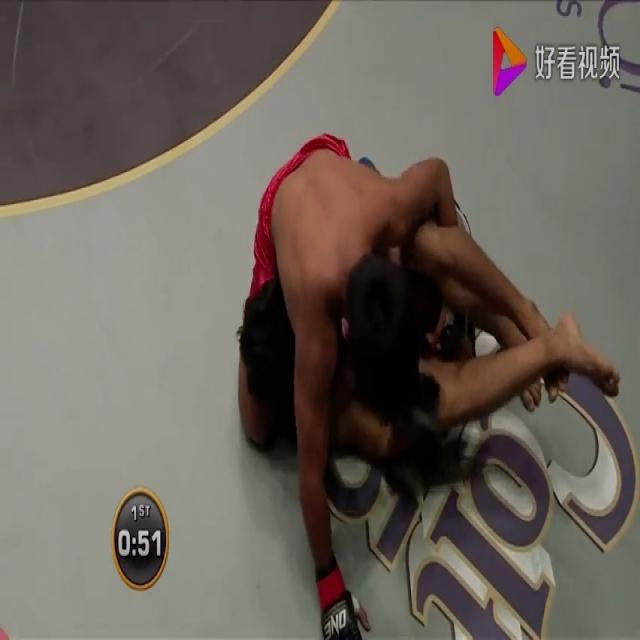fight: (228, 119, 633, 638)
